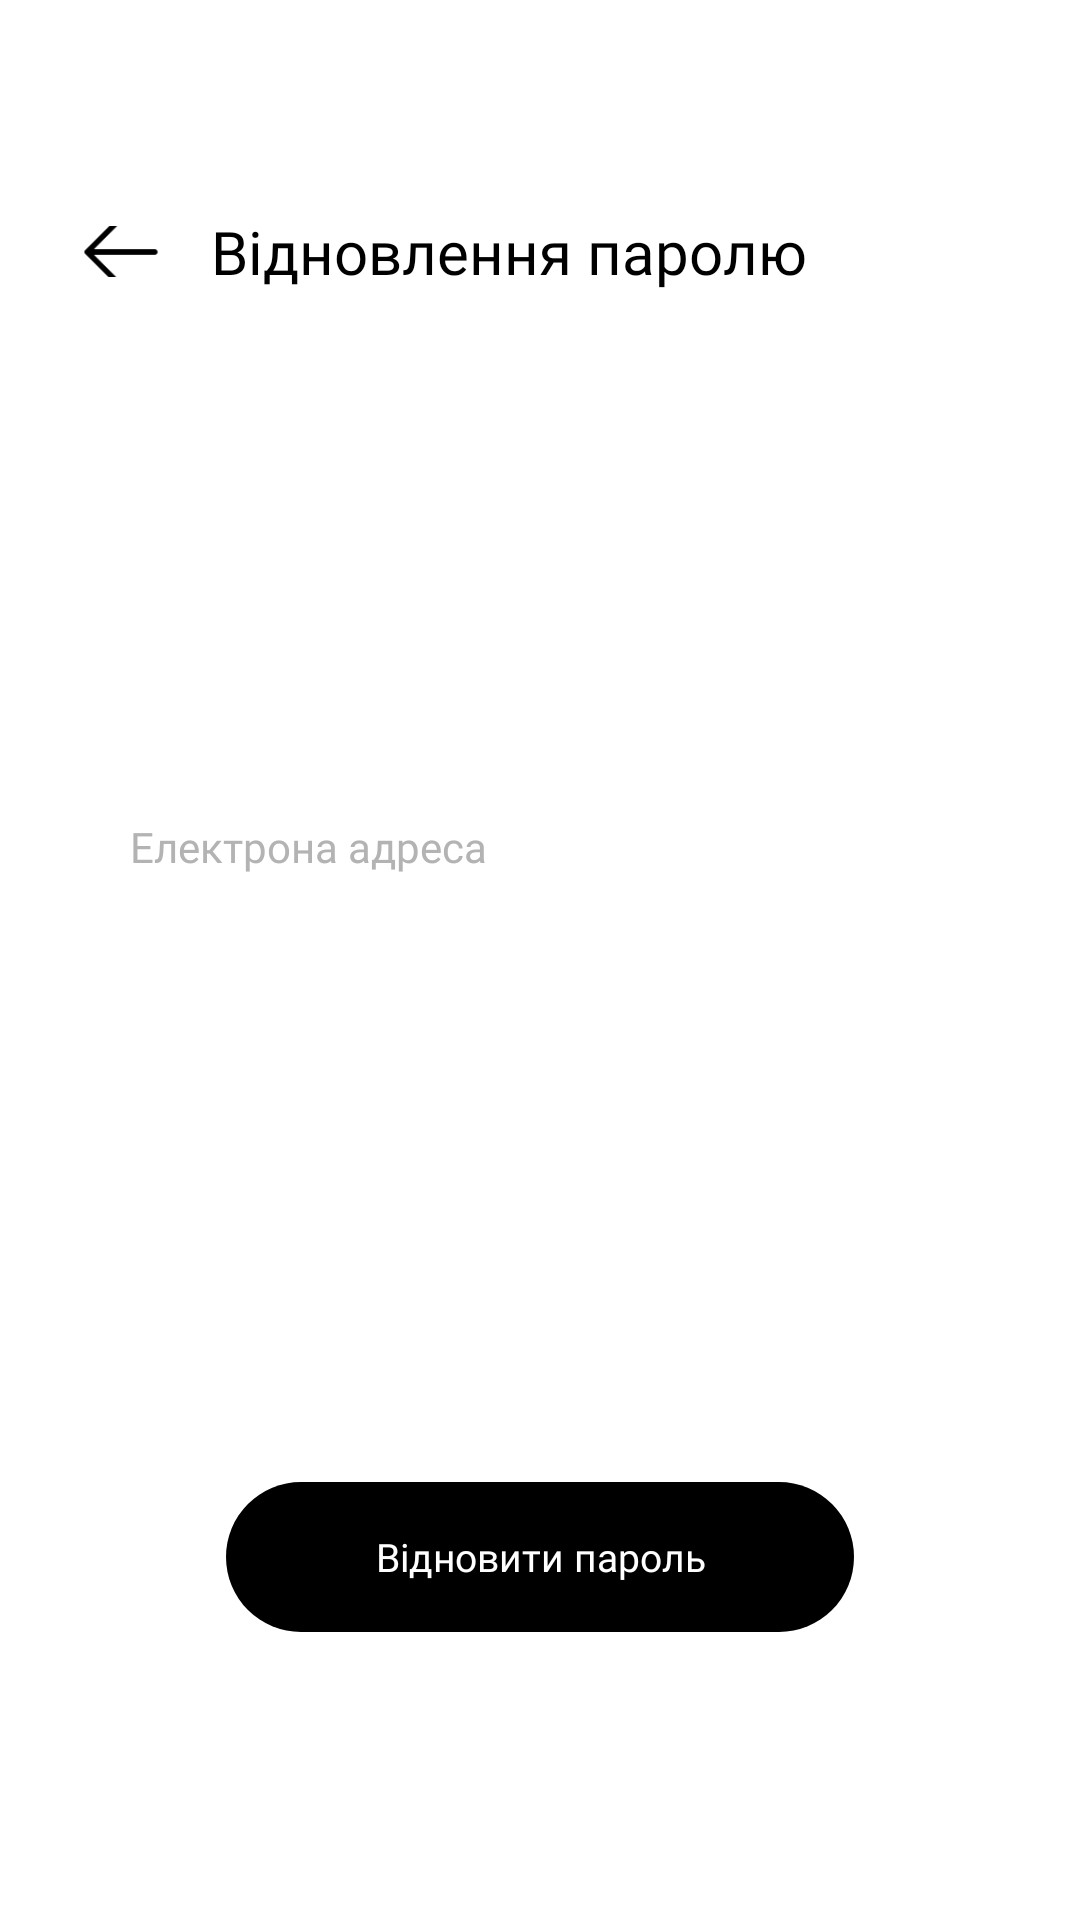

Where icons sit on this 1080px×1920px app screen, as (x1, y1, x2, y2):
arrow left: (84, 226, 158, 277)
